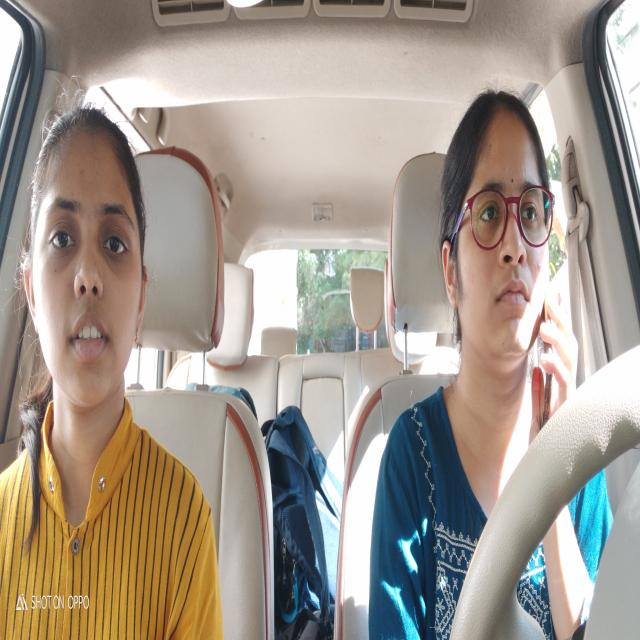mobile: (534, 286, 564, 434)
person: (18, 93, 149, 412), (435, 74, 559, 366)
